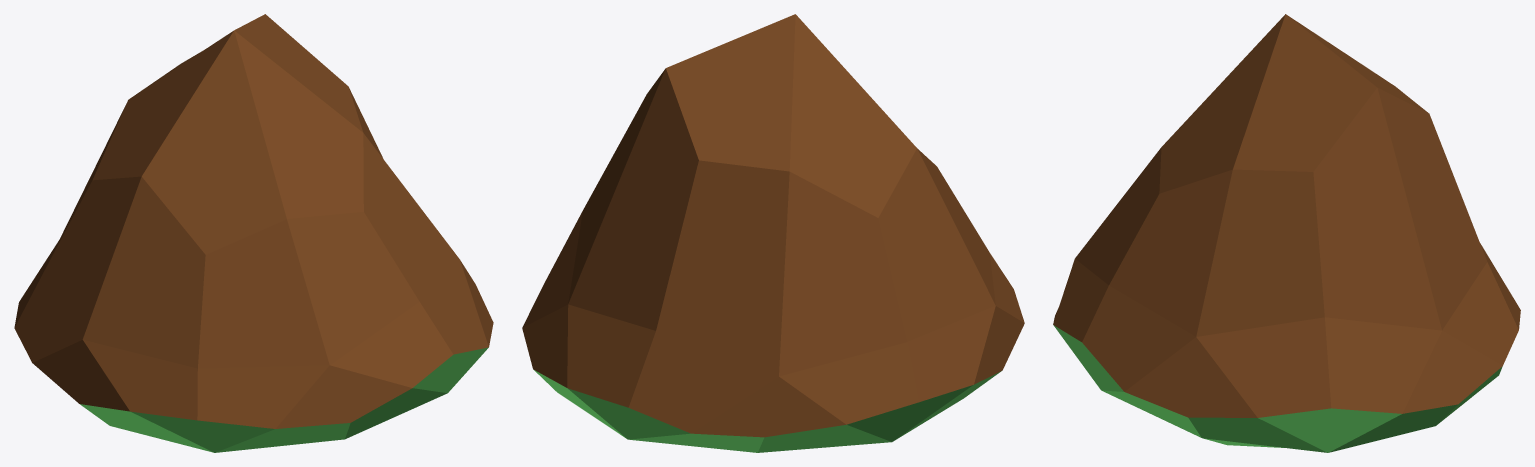
The model's file is Sm_island.fbx.
3 renders of one model, left to right at view 1: azimuth 30°, elevation 25°; view 2: azimuth 150°, elevation 25°; view 3: azimuth 270°, elevation 25°, orthographic. The views are drawn at different scales.
Visible parts, largest first — view 1: SM_island; view 2: SM_island; view 3: SM_island.
Boxes of the visible parts, x1=… form: SM_island: x1=14, y1=14, x2=493, y2=452; SM_island: x1=522, y1=14, x2=1024, y2=452; SM_island: x1=1053, y1=14, x2=1520, y2=452.
Bounding box in the file's own units: 94.36 × 80.83 × 93.78.
